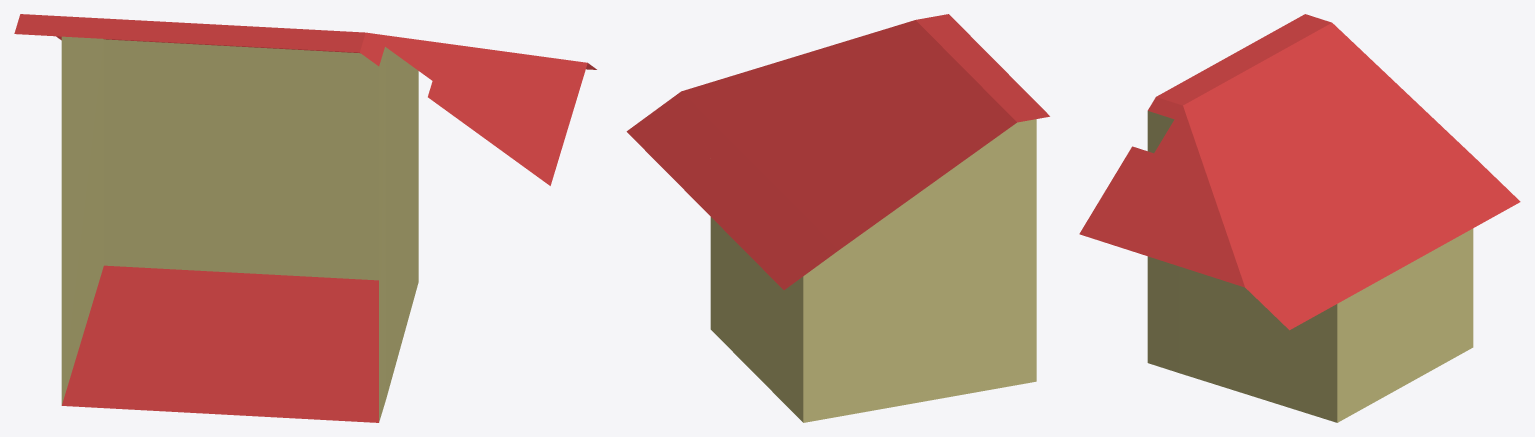
3 views of the same model, side by side, from view 1: azimuth 30°, elevation 25°; view 2: azimuth 150°, elevation 25°; view 3: azimuth 270°, elevation 25° (orthographic). The views are drawn at different scales.
Bounding box in the file's own units: 13.81 × 13.03 × 8.52.
